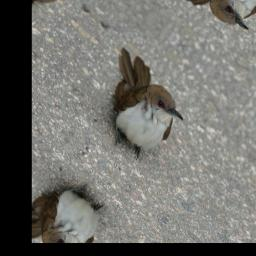Cuckoo: (75, 43, 196, 174)
